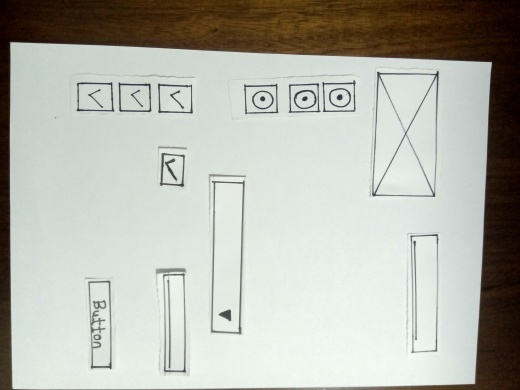button: (90, 282, 112, 369)
checkbox: (117, 81, 154, 110), (78, 82, 113, 110), (158, 85, 190, 114), (161, 149, 183, 187)
dropdown: (213, 181, 243, 332)
img: (374, 72, 437, 200)
radio: (243, 84, 276, 111), (290, 83, 319, 111), (324, 84, 352, 109)
text: (411, 235, 442, 352), (161, 271, 185, 373)
